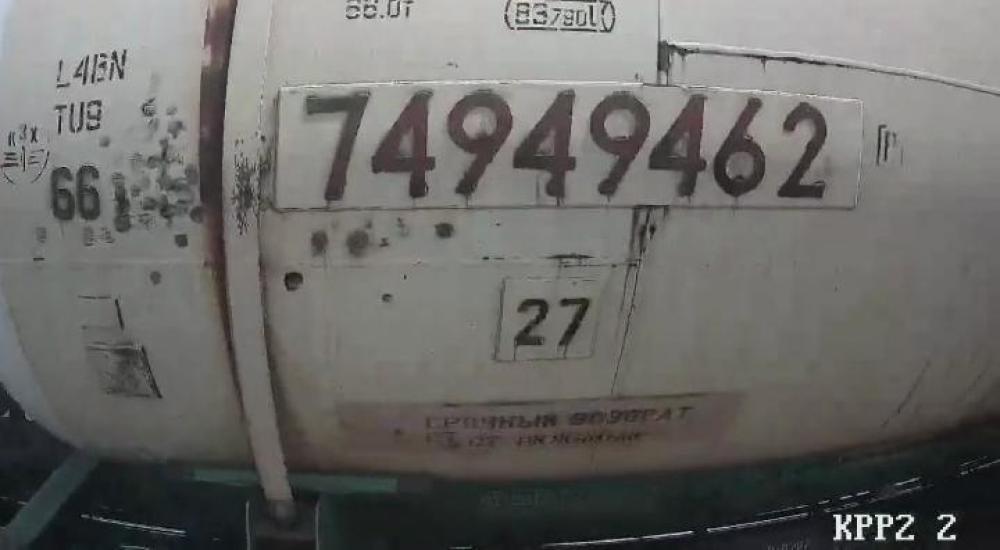Wagon-number: (301, 82, 837, 204)
